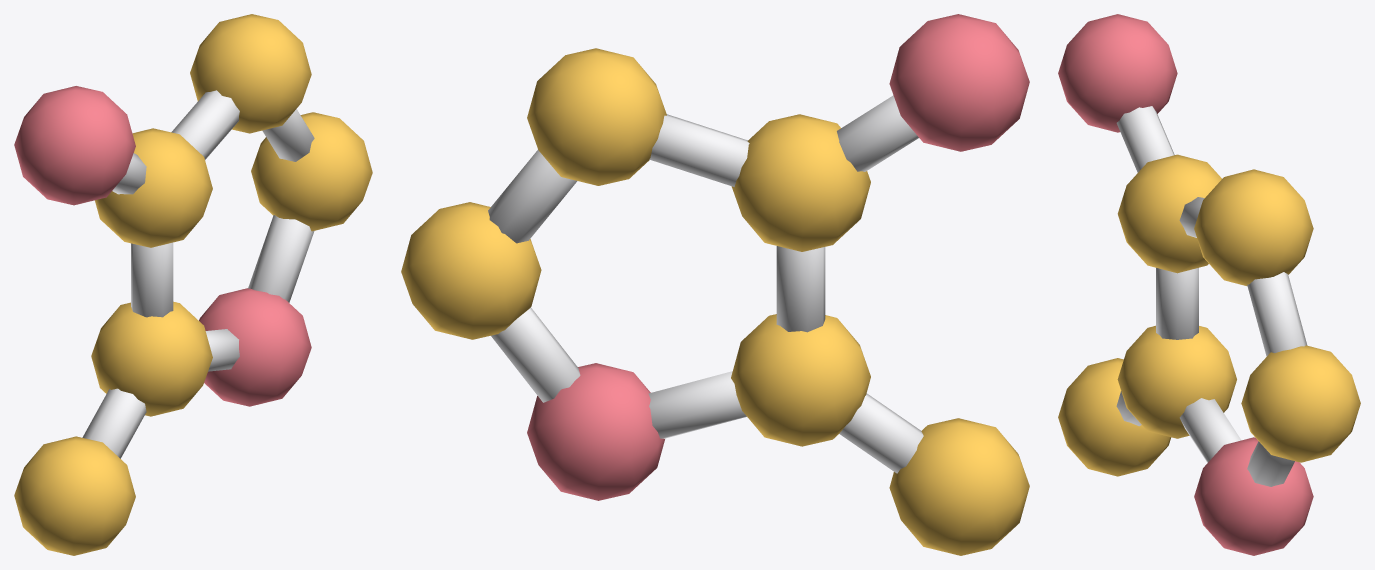
The model's file is Deoxyribose_Sugar.glb.
3 views of the same model, side by side, from view 1: azimuth 30°, elevation 25°; view 2: azimuth 150°, elevation 25°; view 3: azimuth 270°, elevation 25° (orthographic). The views are drawn at different scales.
Parts seen in each view (by area): view 1: Deoxyribose_Sugar_Carbon, Deoxyribose_Sugar_Oxygen, Deoxyribose_Sugar_Bonds; view 2: Deoxyribose_Sugar_Carbon, Deoxyribose_Sugar_Bonds, Deoxyribose_Sugar_Oxygen; view 3: Deoxyribose_Sugar_Carbon, Deoxyribose_Sugar_Oxygen, Deoxyribose_Sugar_Bonds.
Part boxes in pixels (x1=…): Deoxyribose_Sugar_Carbon: x1=14, y1=14, x2=372, y2=555; Deoxyribose_Sugar_Oxygen: x1=14, y1=86, x2=311, y2=406; Deoxyribose_Sugar_Bonds: x1=82, y1=90, x2=314, y2=458; Deoxyribose_Sugar_Carbon: x1=401, y1=48, x2=1029, y2=555; Deoxyribose_Sugar_Bonds: x1=488, y1=95, x2=923, y2=473; Deoxyribose_Sugar_Oxygen: x1=527, y1=14, x2=1029, y2=500; Deoxyribose_Sugar_Carbon: x1=1058, y1=154, x2=1360, y2=476; Deoxyribose_Sugar_Oxygen: x1=1058, y1=14, x2=1313, y2=555; Deoxyribose_Sugar_Bonds: x1=1116, y1=106, x2=1307, y2=486.
Bounding box in the file's own units: 0.0413 × 0.0417 × 0.0253.
